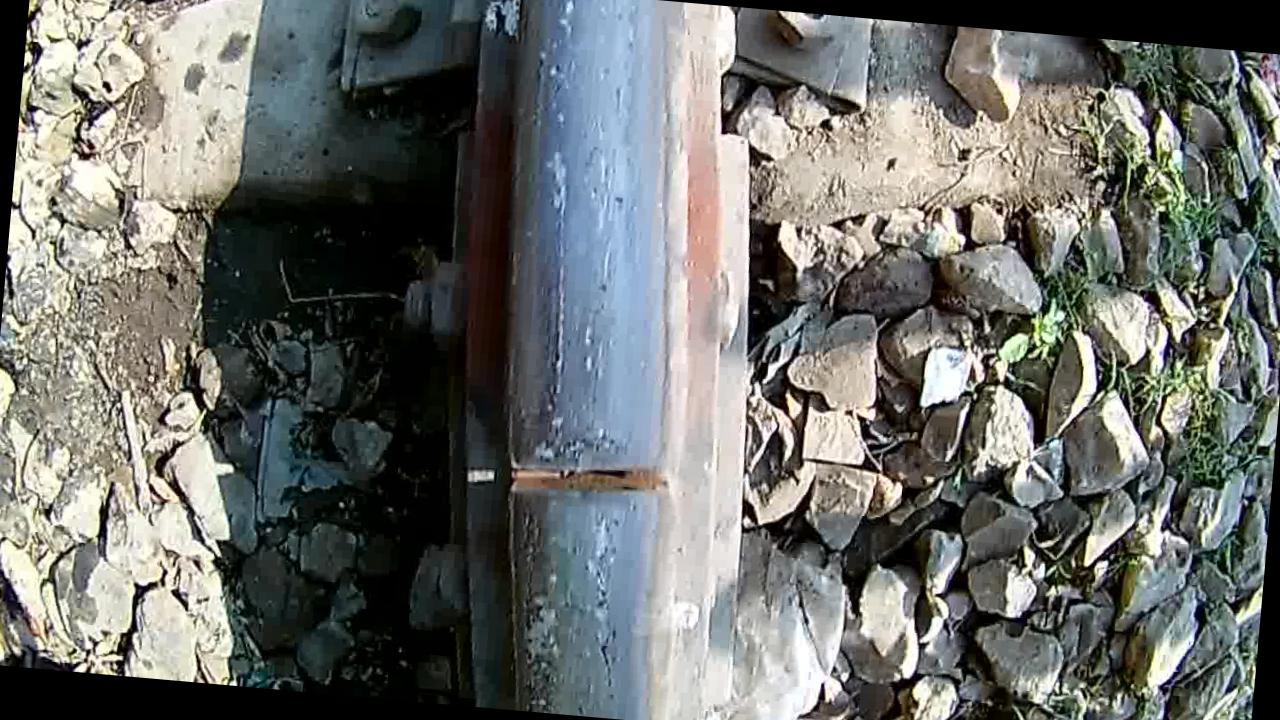clip_missing: (473, 0, 692, 449)
